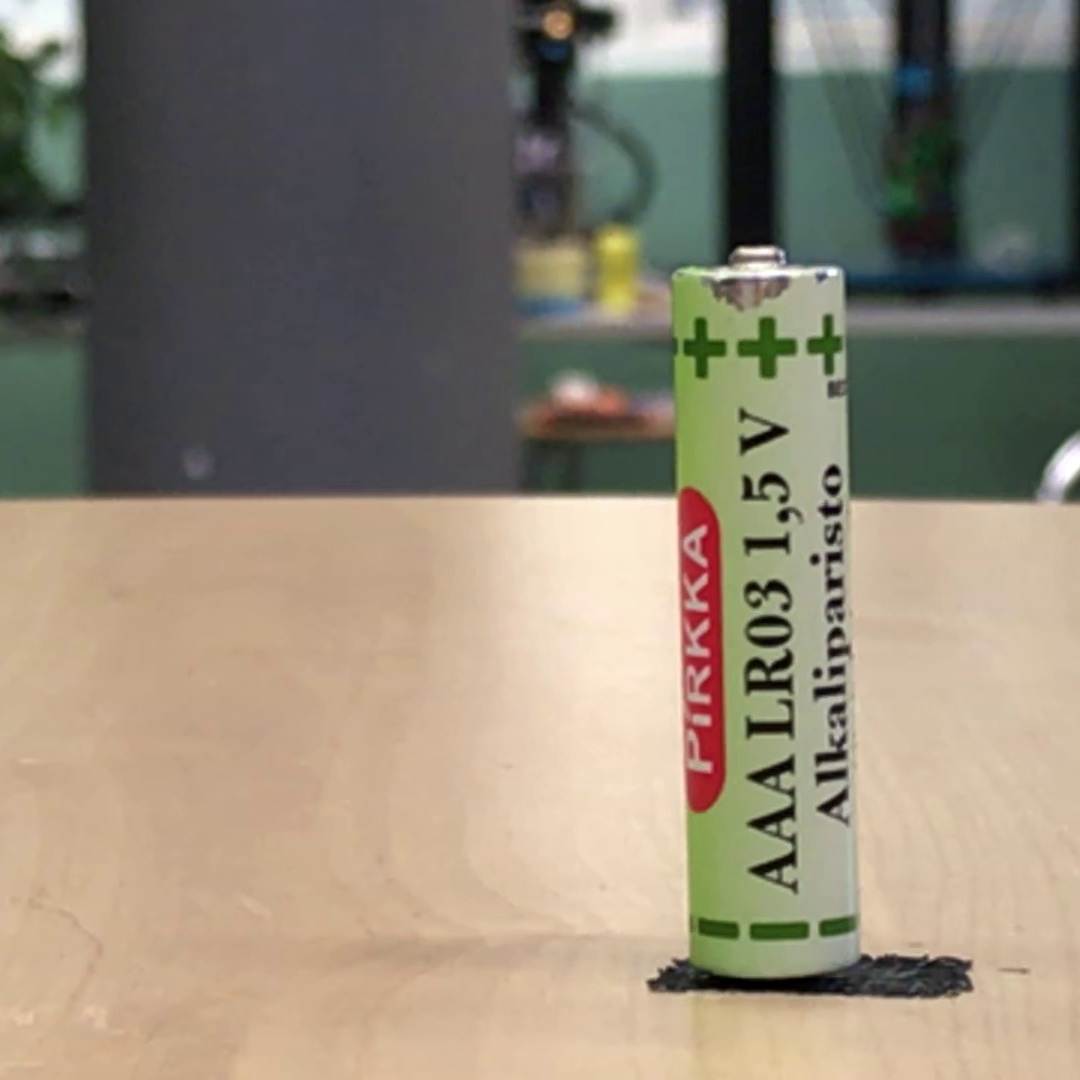keyword: (729, 397, 831, 622), (805, 758, 859, 835)
